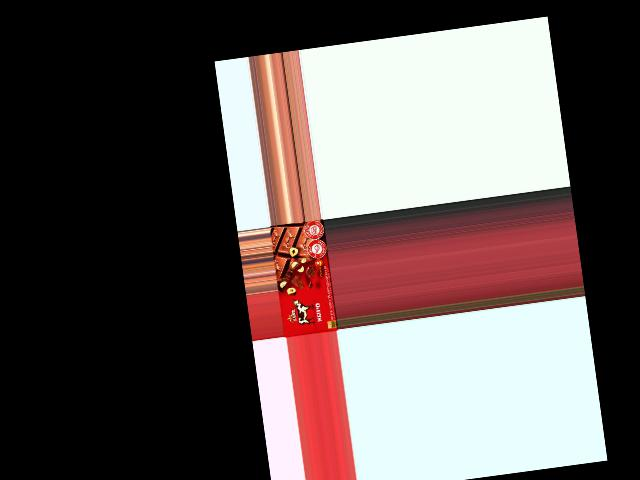chocolate: (270, 219, 337, 338)
